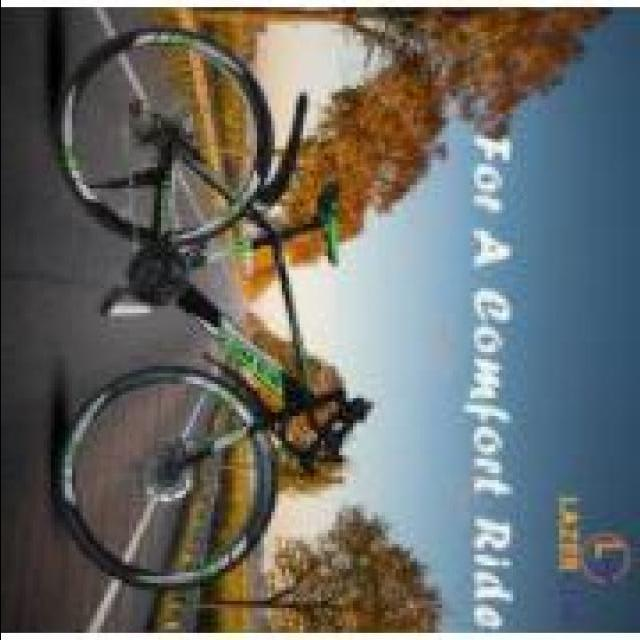bicycle: (16, 22, 396, 594)
